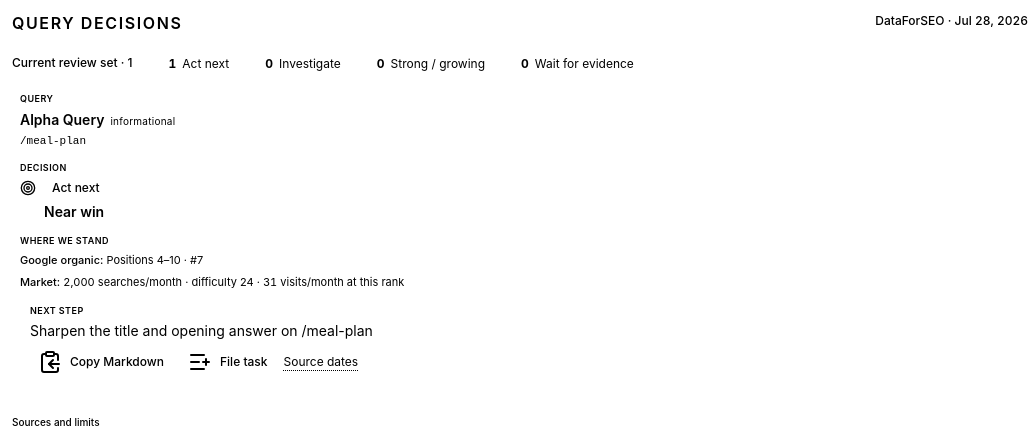
Test: QueryVisibilityRankings comparison labels › a query row shows its task, not the operator's self-report › leaves a copied-but-unfiled query with no filing marker at all
The image size is (1036, 443).
What coordinates should you click on to do the following:
click the button with aria-label "Copy Markdown for Alpha Query"
I would click on:
 (101, 362)
Its box is x1=30 y1=348 x2=172 y2=376.
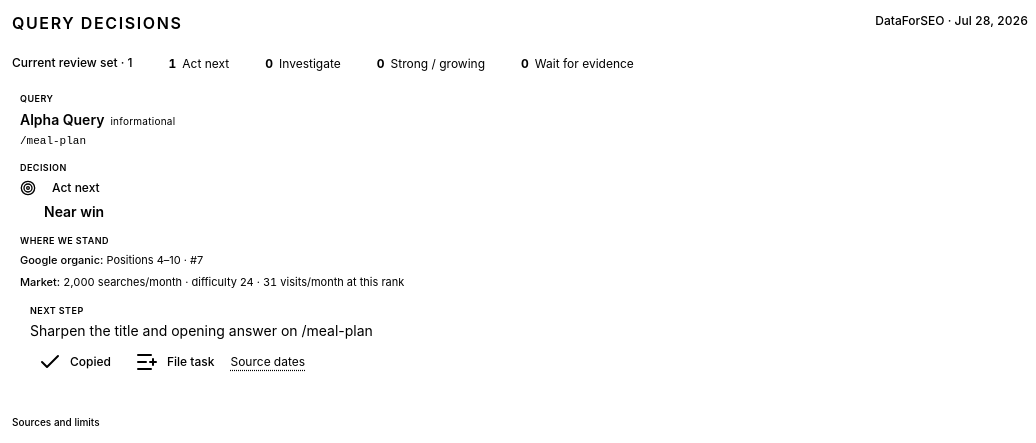
Result: the button with aria-label "Copied for Alpha Query" is shown at x1=30 y1=348 x2=119 y2=376
